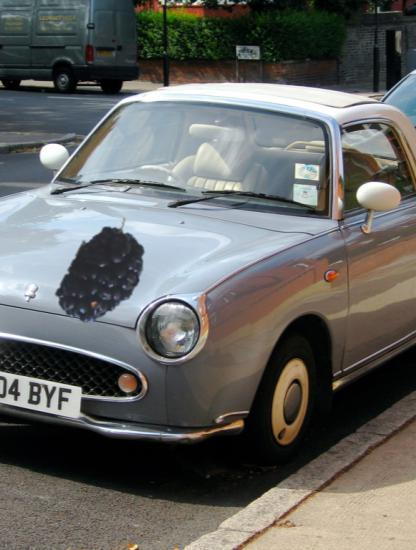Mulberry: (58, 220, 173, 335)
